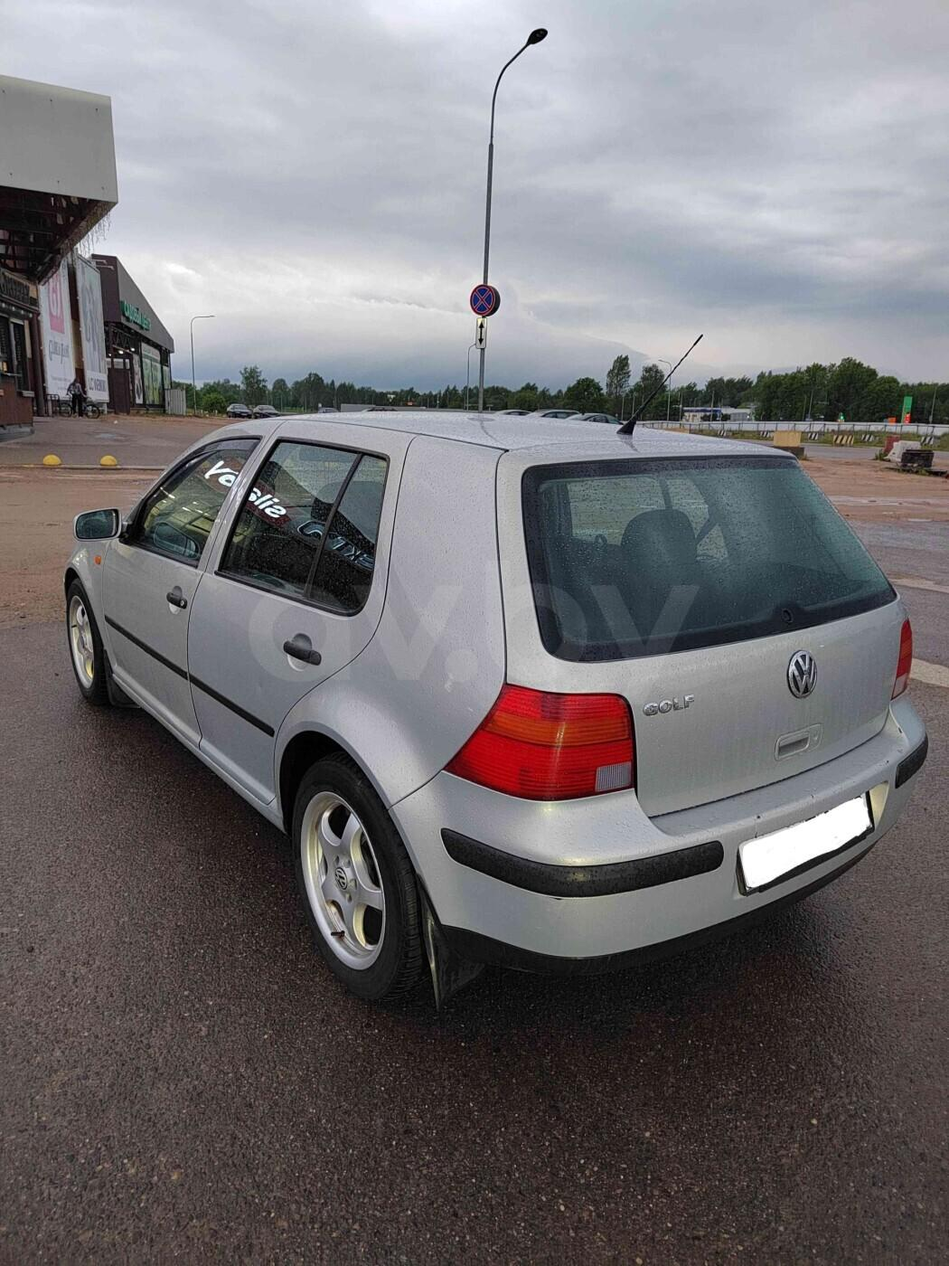Golf_1997-2006: (61, 403, 935, 1013)
